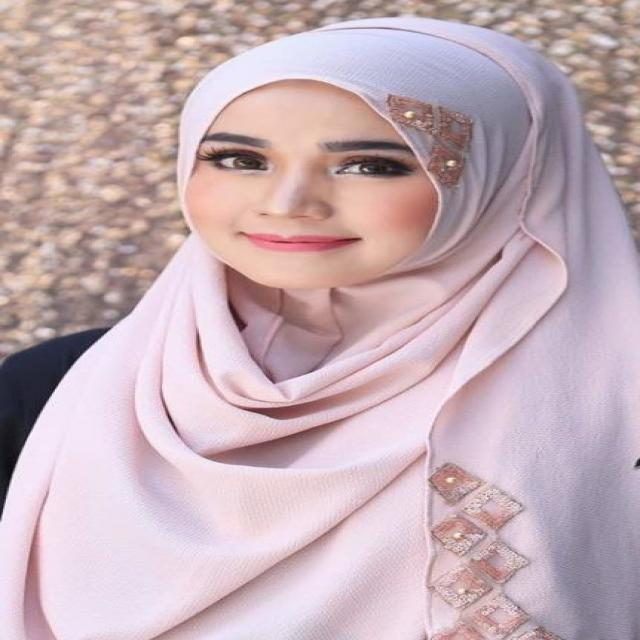head: (163, 11, 590, 291)
